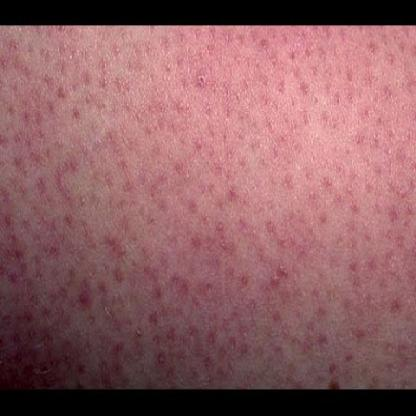Chicken Skin: (4, 29, 414, 389)
